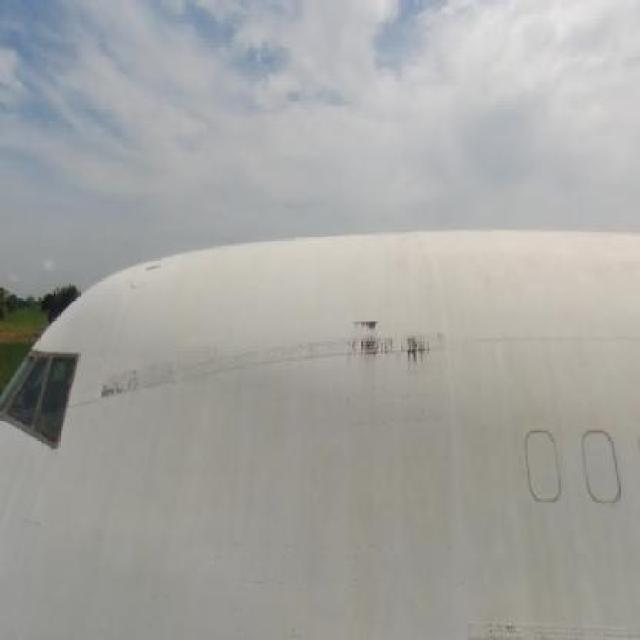Rust: (344, 305, 442, 387)
Scartch: (93, 361, 152, 405)
